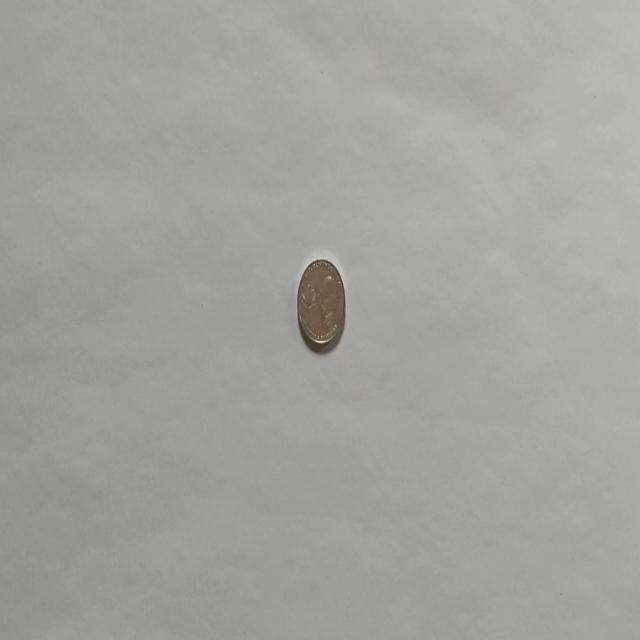lima ratus rupiah: (296, 256, 346, 348)
